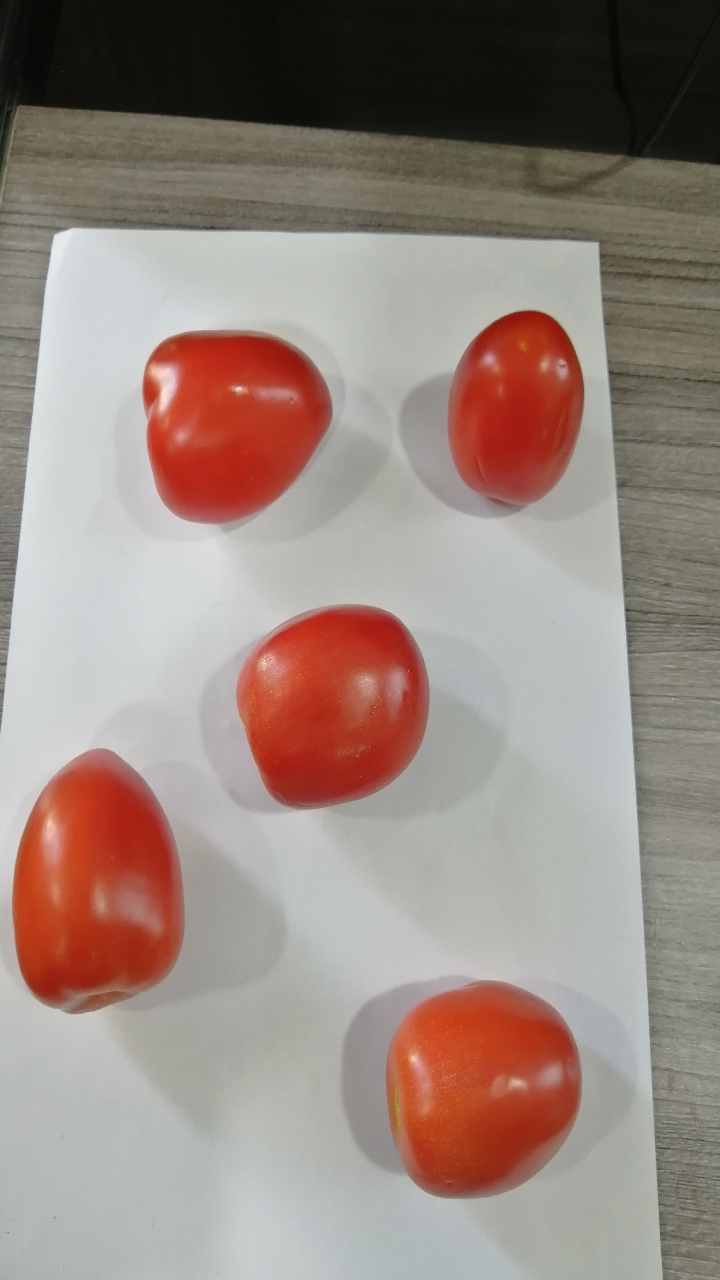tomateRojo: (346, 963, 603, 1208), (8, 734, 197, 1037), (214, 583, 446, 828), (120, 306, 348, 543), (429, 292, 594, 528)
